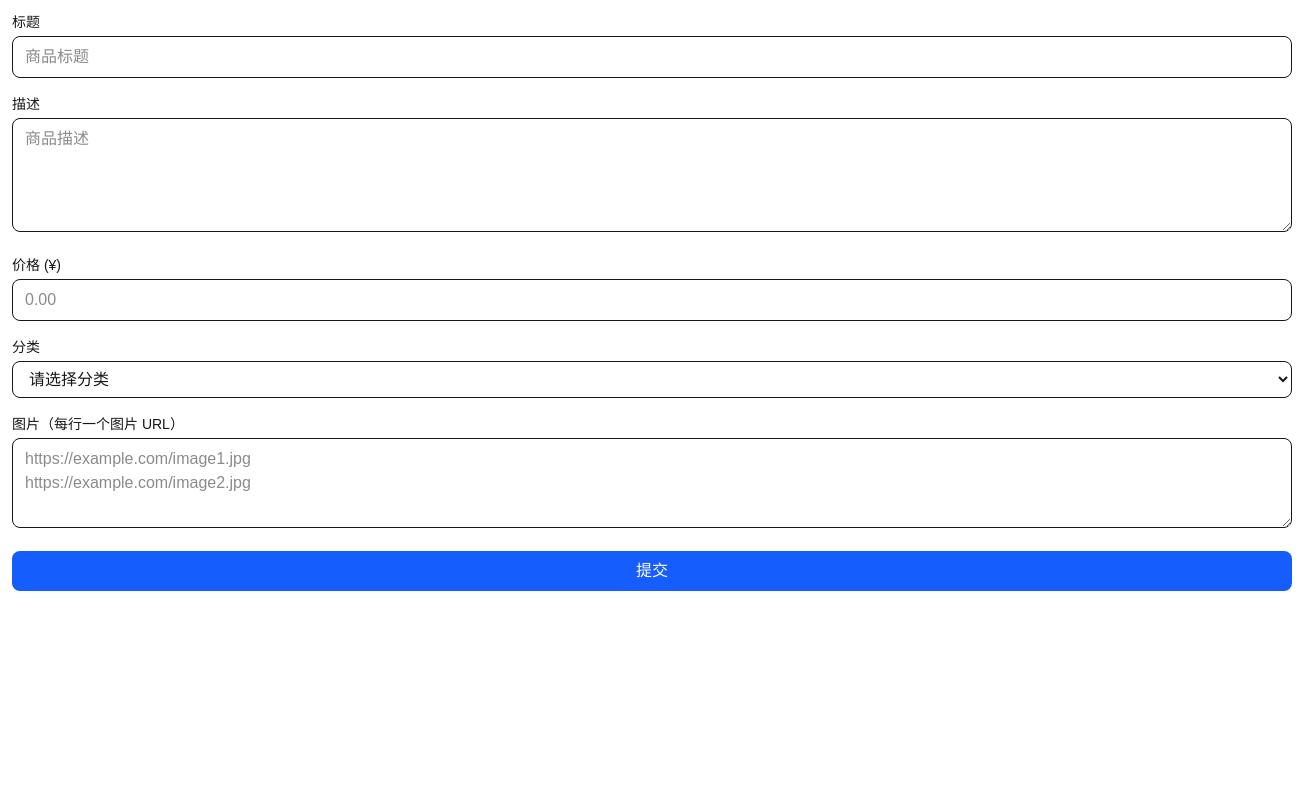
Scenario: GoodsForm › shows submitting state
In the field with placeholder "商品标题": (652, 57) [12,36,1292,78], type "Test"
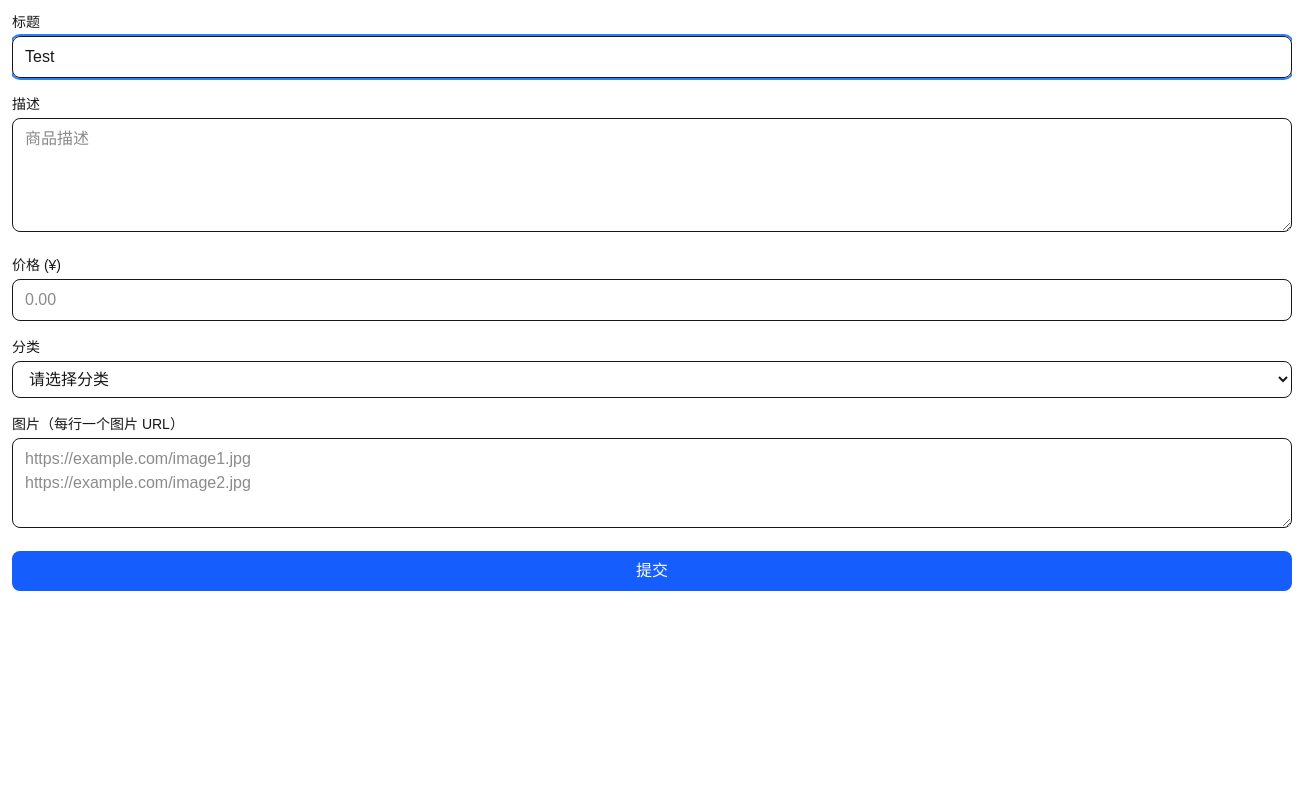
In the text box with placeholder "商品描述": (652, 175) [12,118,1292,232], type "Test"
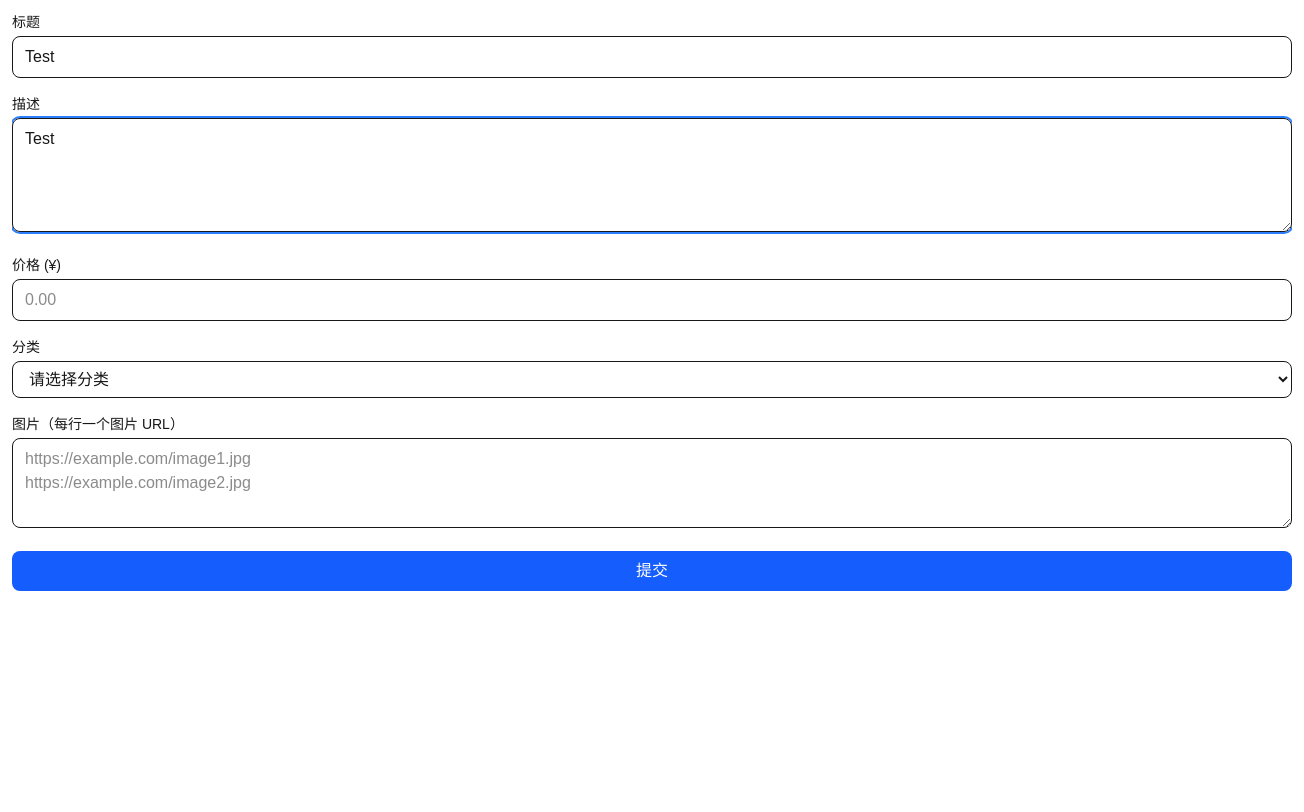
In the number field with placeholder "0.00": (652, 300) [12,279,1292,321], type "50"
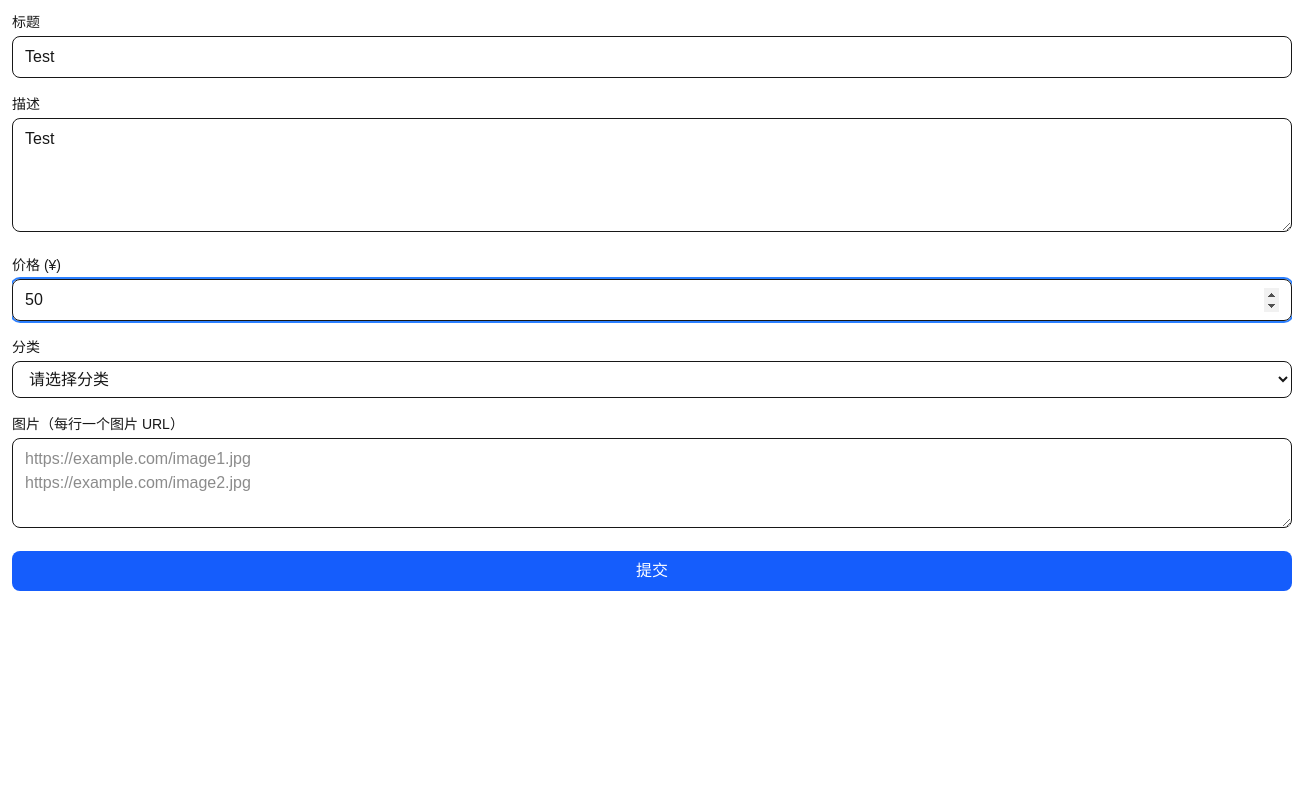
Select "数码电子" in the dropdown: (652, 380) [12,361,1292,398]
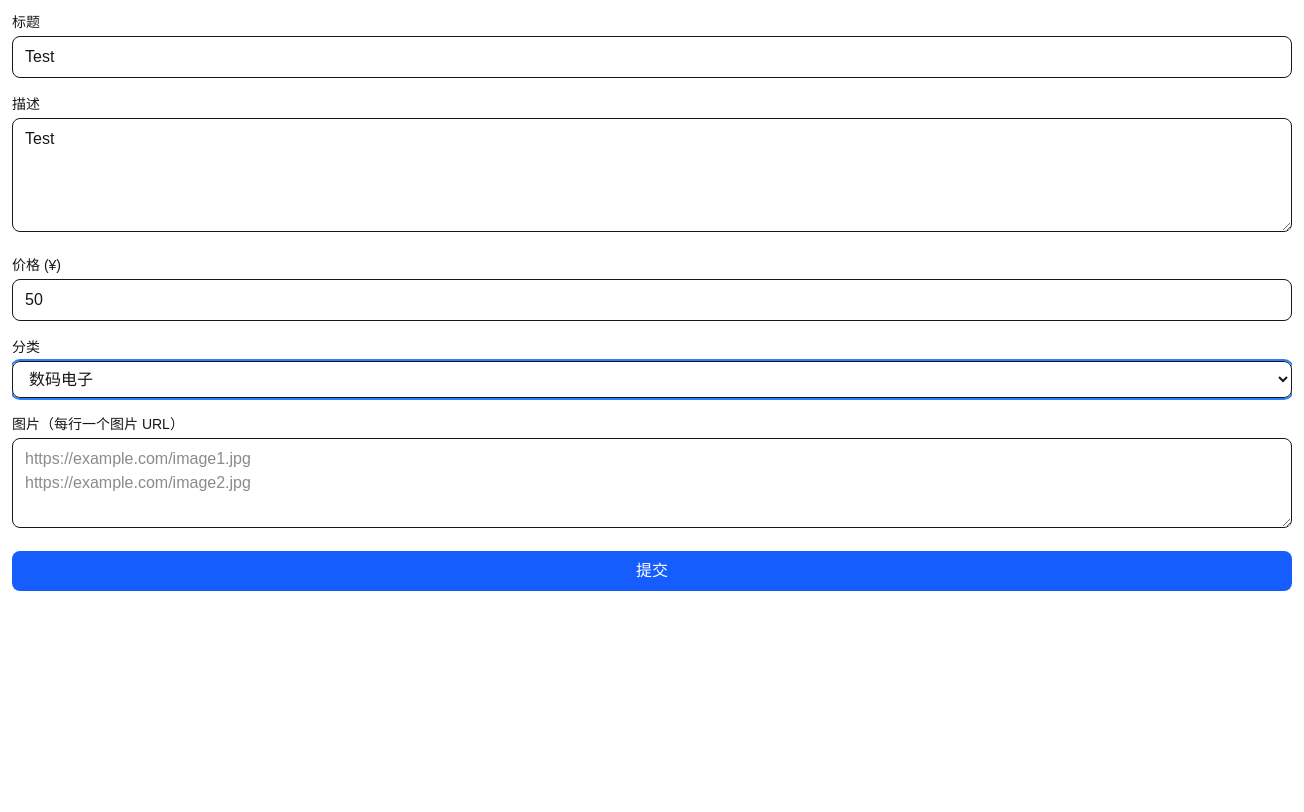
Click the button "提交": click(652, 571) [12,551,1292,591]
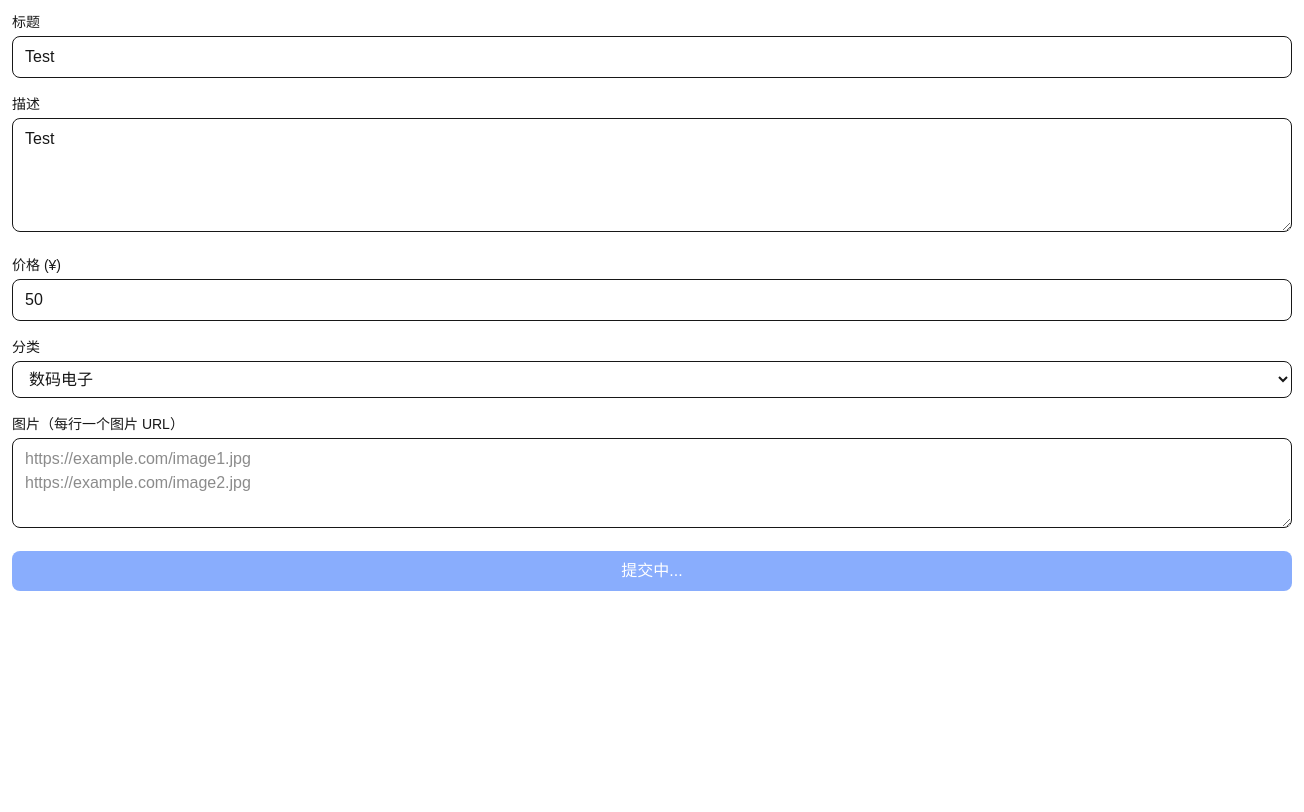
Expected: the button is disabled, [12,551,1292,591]
